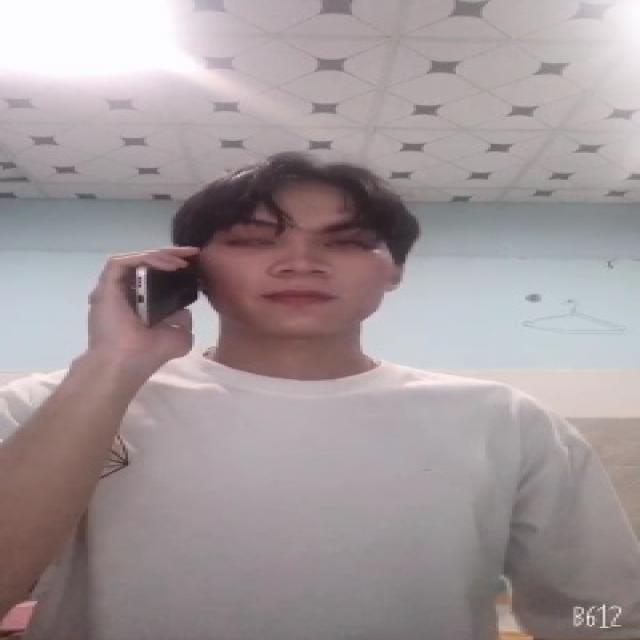Phone: (119, 244, 210, 334)
